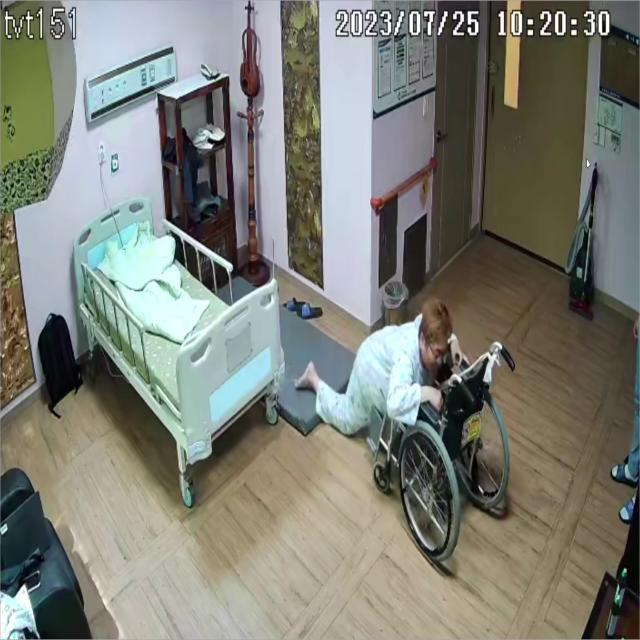fall: (296, 304, 457, 436)
patient: (295, 302, 456, 437)
